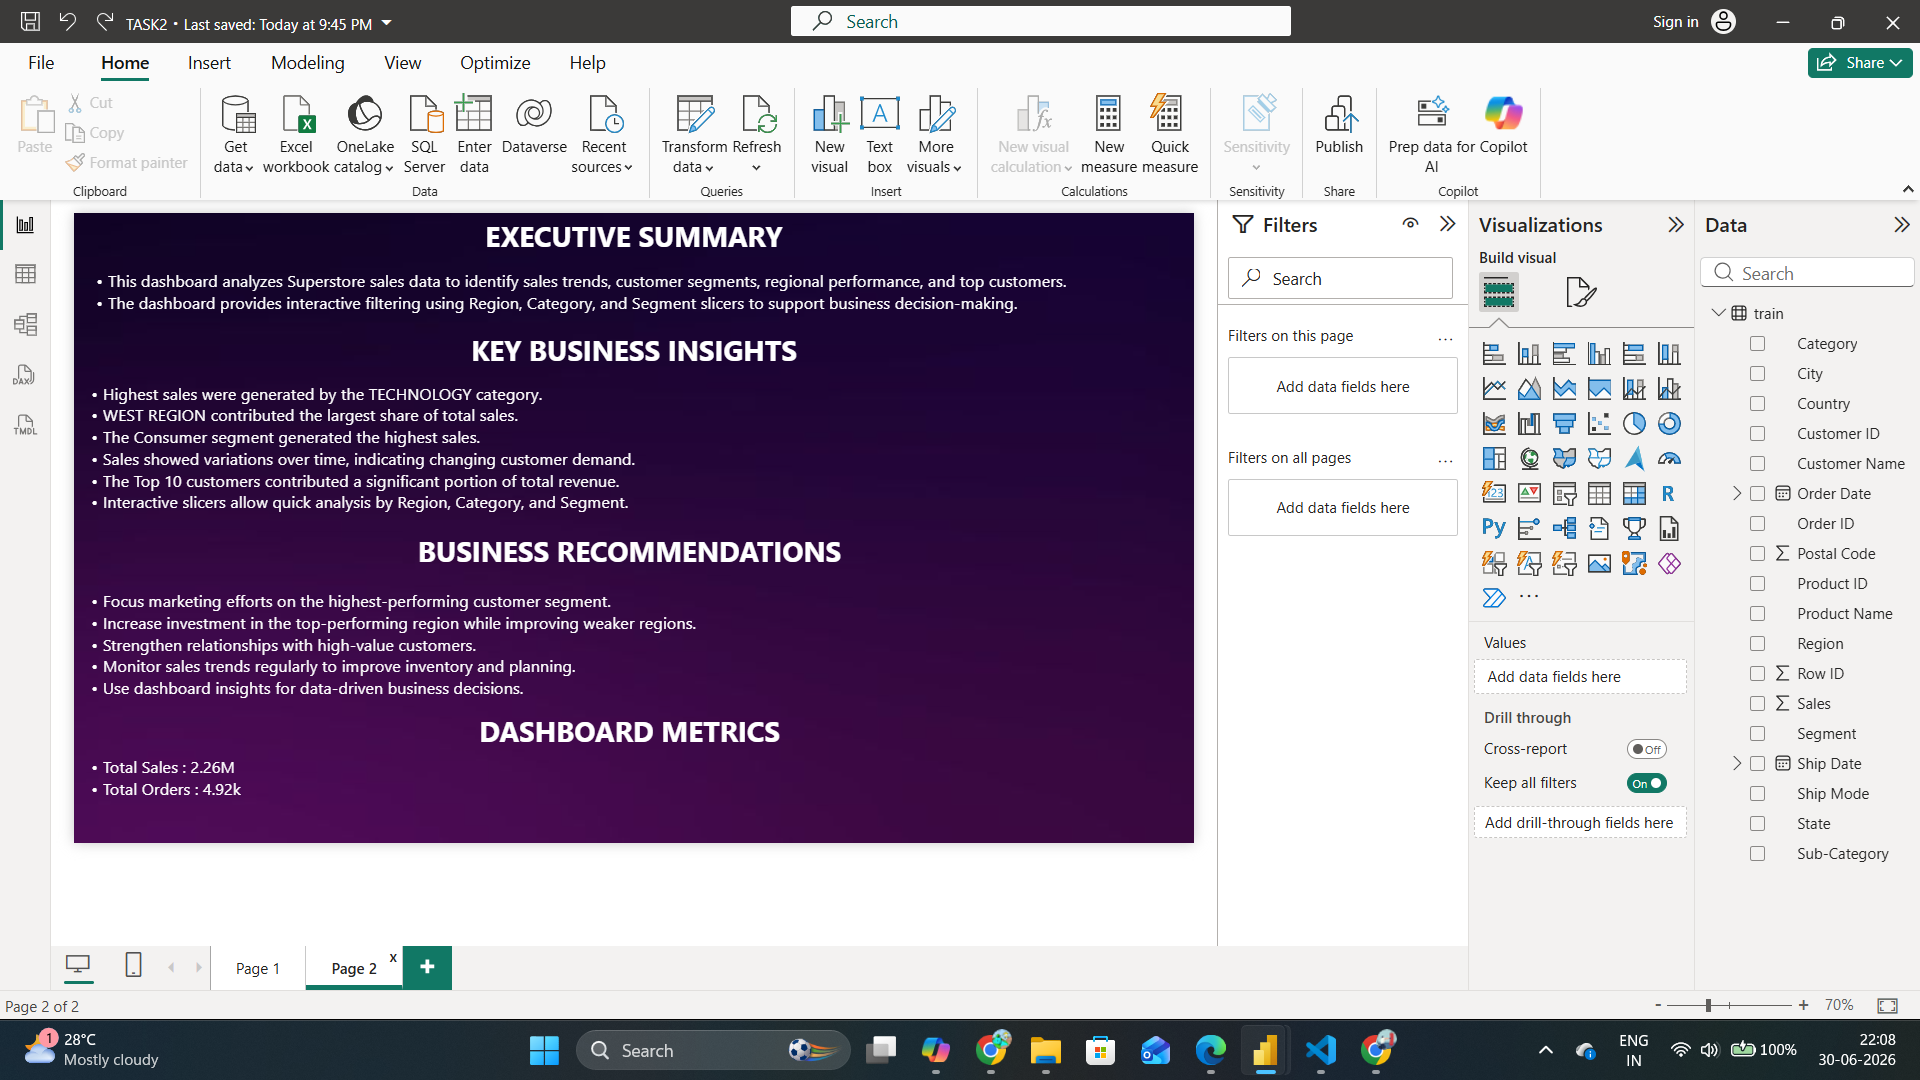

This screenshot's page, from the dashboard's own definition file:
{"tool":"powerbi","page":{"name":"Page 2","canvas":[1280,720],"ordinal":1},"visuals":[{"type":"textbox","box":[10,0,1260,60],"z":0},{"type":"textbox","box":[5.7,60,1260,70],"z":1000},{"type":"textbox","box":[10,130,1260,58.6],"z":2000},{"type":"textbox","box":[0,188.6,1260,160],"z":3000},{"type":"textbox","box":[10,360,1250,65.7],"z":4000},{"type":"textbox","box":[0,425.7,1260,140],"z":5000},{"type":"textbox","box":[10,565.7,1250,60],"z":6000},{"type":"textbox","box":[0,615.7,1245.7,68.6],"z":7000}]}

Visuals, with their boxes on the page's 1280x720 design canvas (x1, y1, x2, y2). These are canvas units, not pixel positions in the 1920x1080 screenshot, which may show the page scaled, cropped or inside an application window:
textbox: <bbox>10, 0, 1270, 60</bbox>
textbox: <bbox>6, 60, 1266, 130</bbox>
textbox: <bbox>10, 130, 1270, 189</bbox>
textbox: <bbox>0, 189, 1260, 349</bbox>
textbox: <bbox>10, 360, 1260, 426</bbox>
textbox: <bbox>0, 426, 1260, 566</bbox>
textbox: <bbox>10, 566, 1260, 626</bbox>
textbox: <bbox>0, 616, 1246, 684</bbox>
